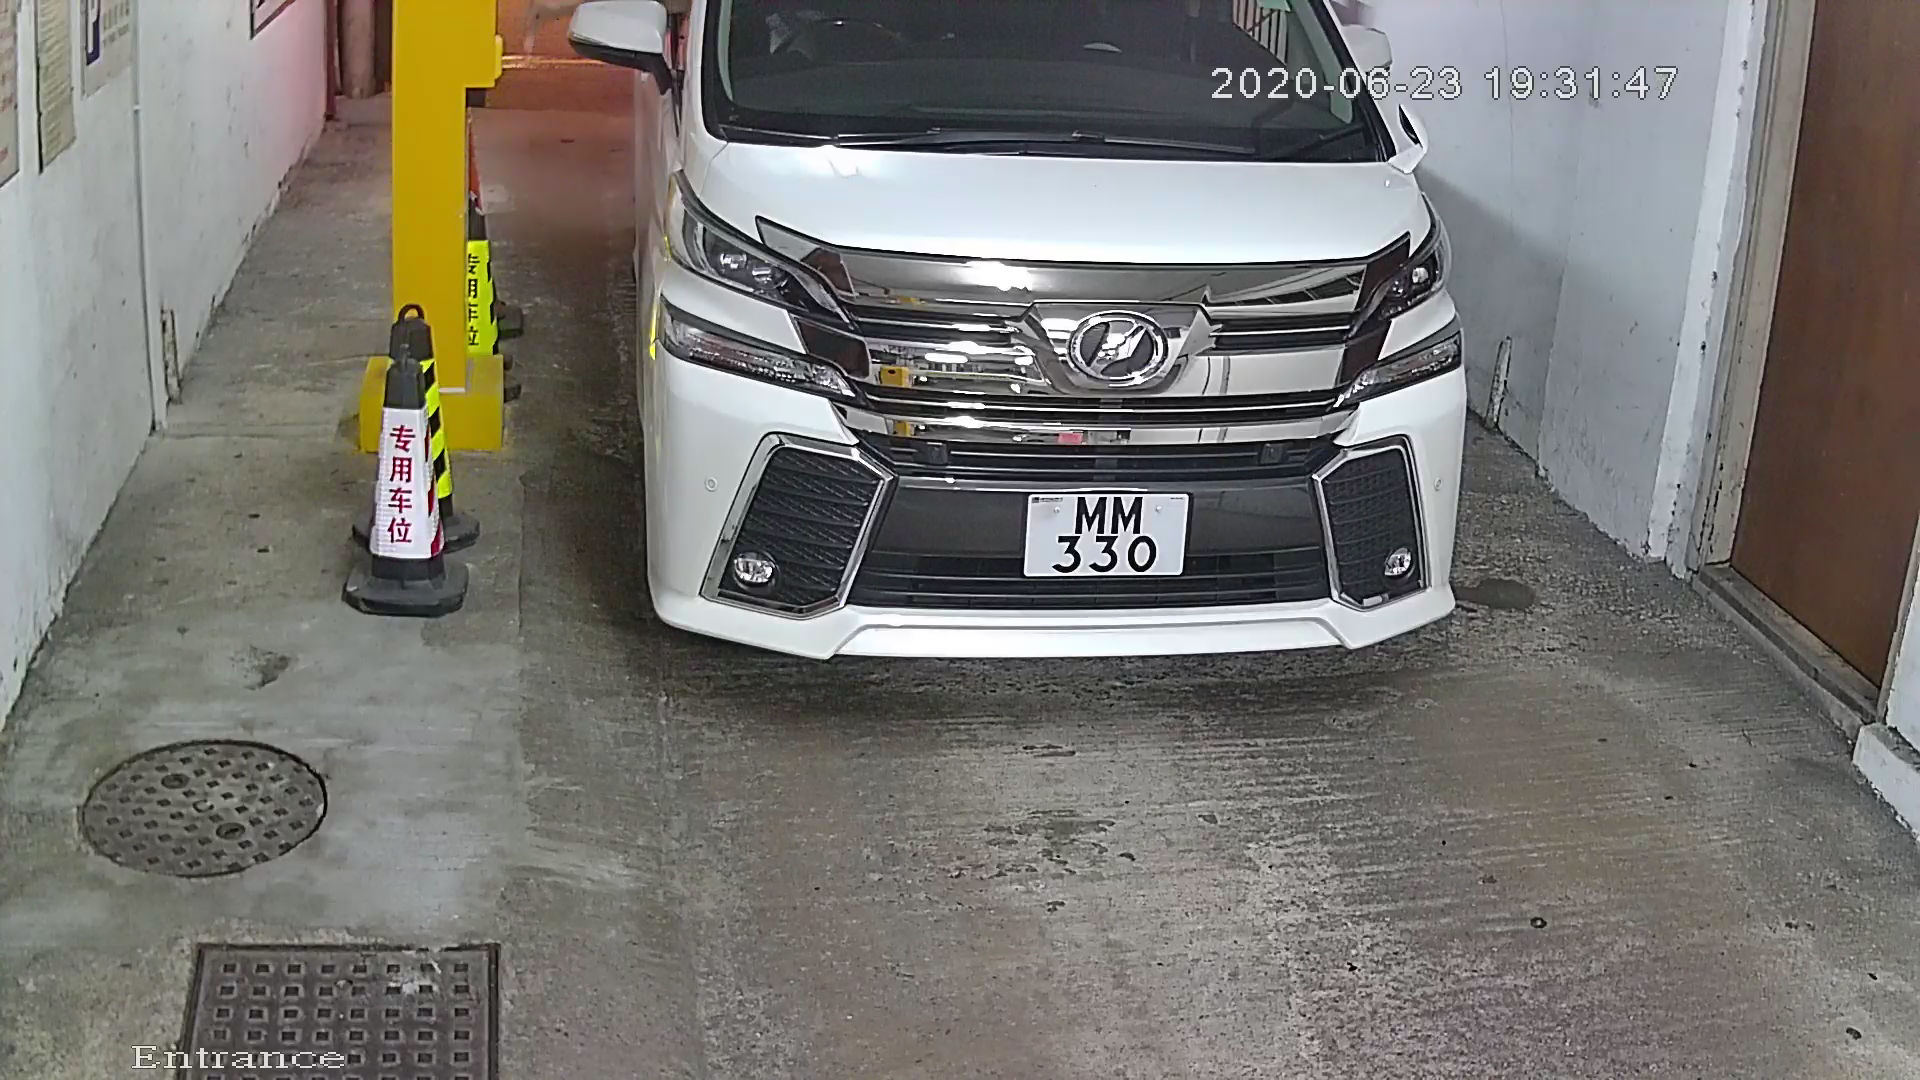privatecar: (541, 3, 1501, 711)
